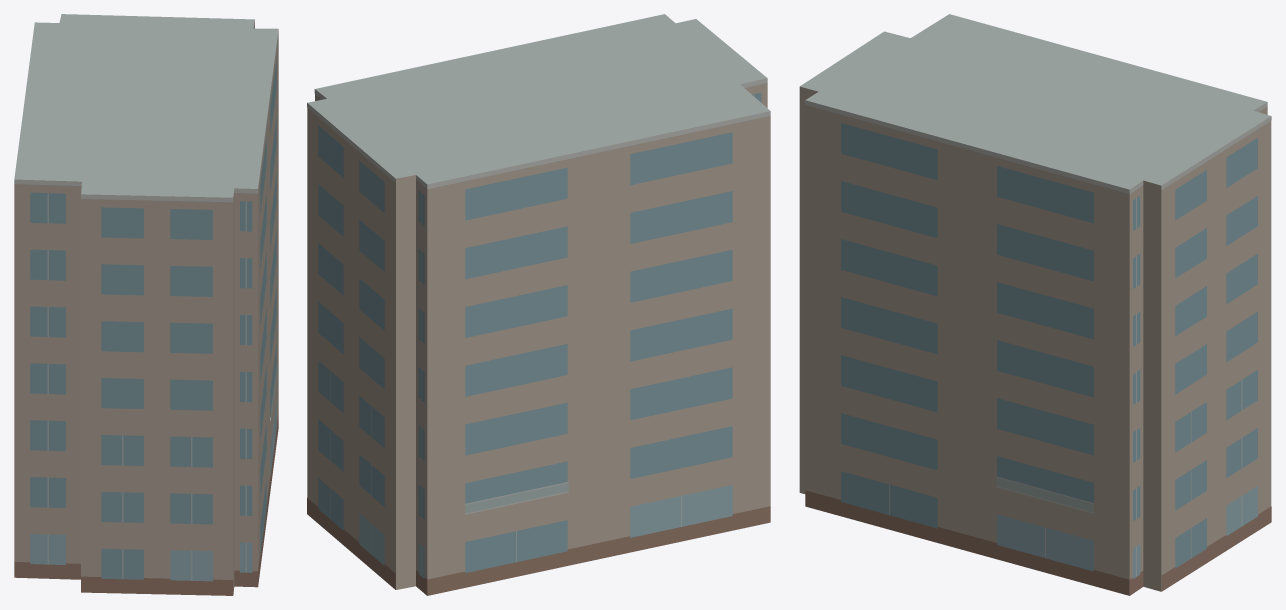
File: survey-upis-32733305.glb
3 renders of one model, left to right at view 1: azimuth 30°, elevation 25°; view 2: azimuth 150°, elevation 25°; view 3: azimuth 270°, elevation 25°, orthographic. The views are drawn at different scales.
Visible parts, largest first — view 1: survey-upis-32733305.tmp; view 2: survey-upis-32733305.tmp; view 3: survey-upis-32733305.tmp.
Boxes of the visible parts, left/top/right/bottom form: survey-upis-32733305.tmp: left=14, top=14, right=278, bottom=595; survey-upis-32733305.tmp: left=307, top=14, right=770, bottom=595; survey-upis-32733305.tmp: left=799, top=14, right=1271, bottom=595.
Size of the model in its own units: 19.81 by 21.35 by 22.49.
